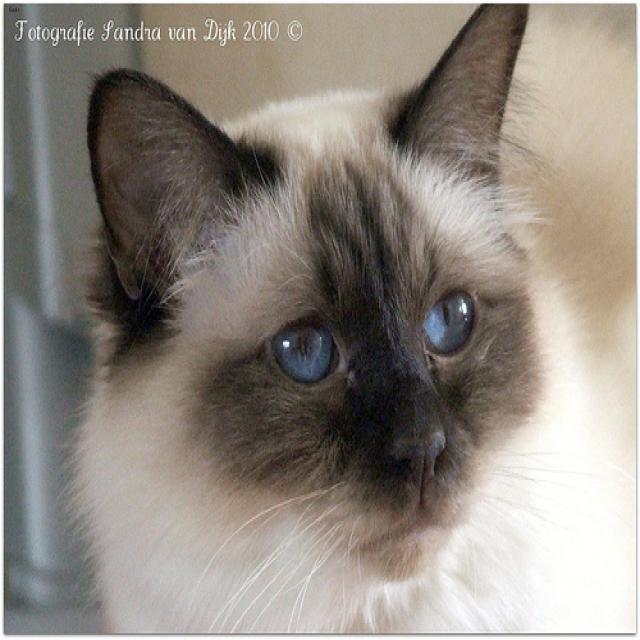cat: (86, 2, 540, 580)
